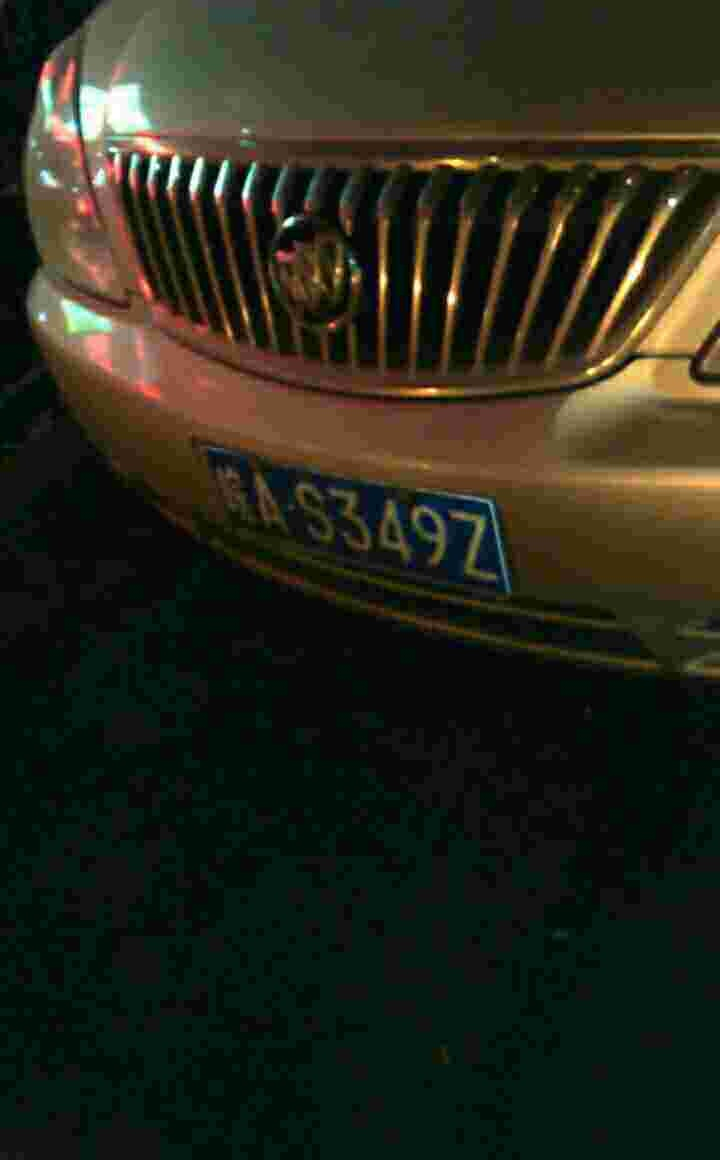license_plate: (214, 455, 507, 595)
